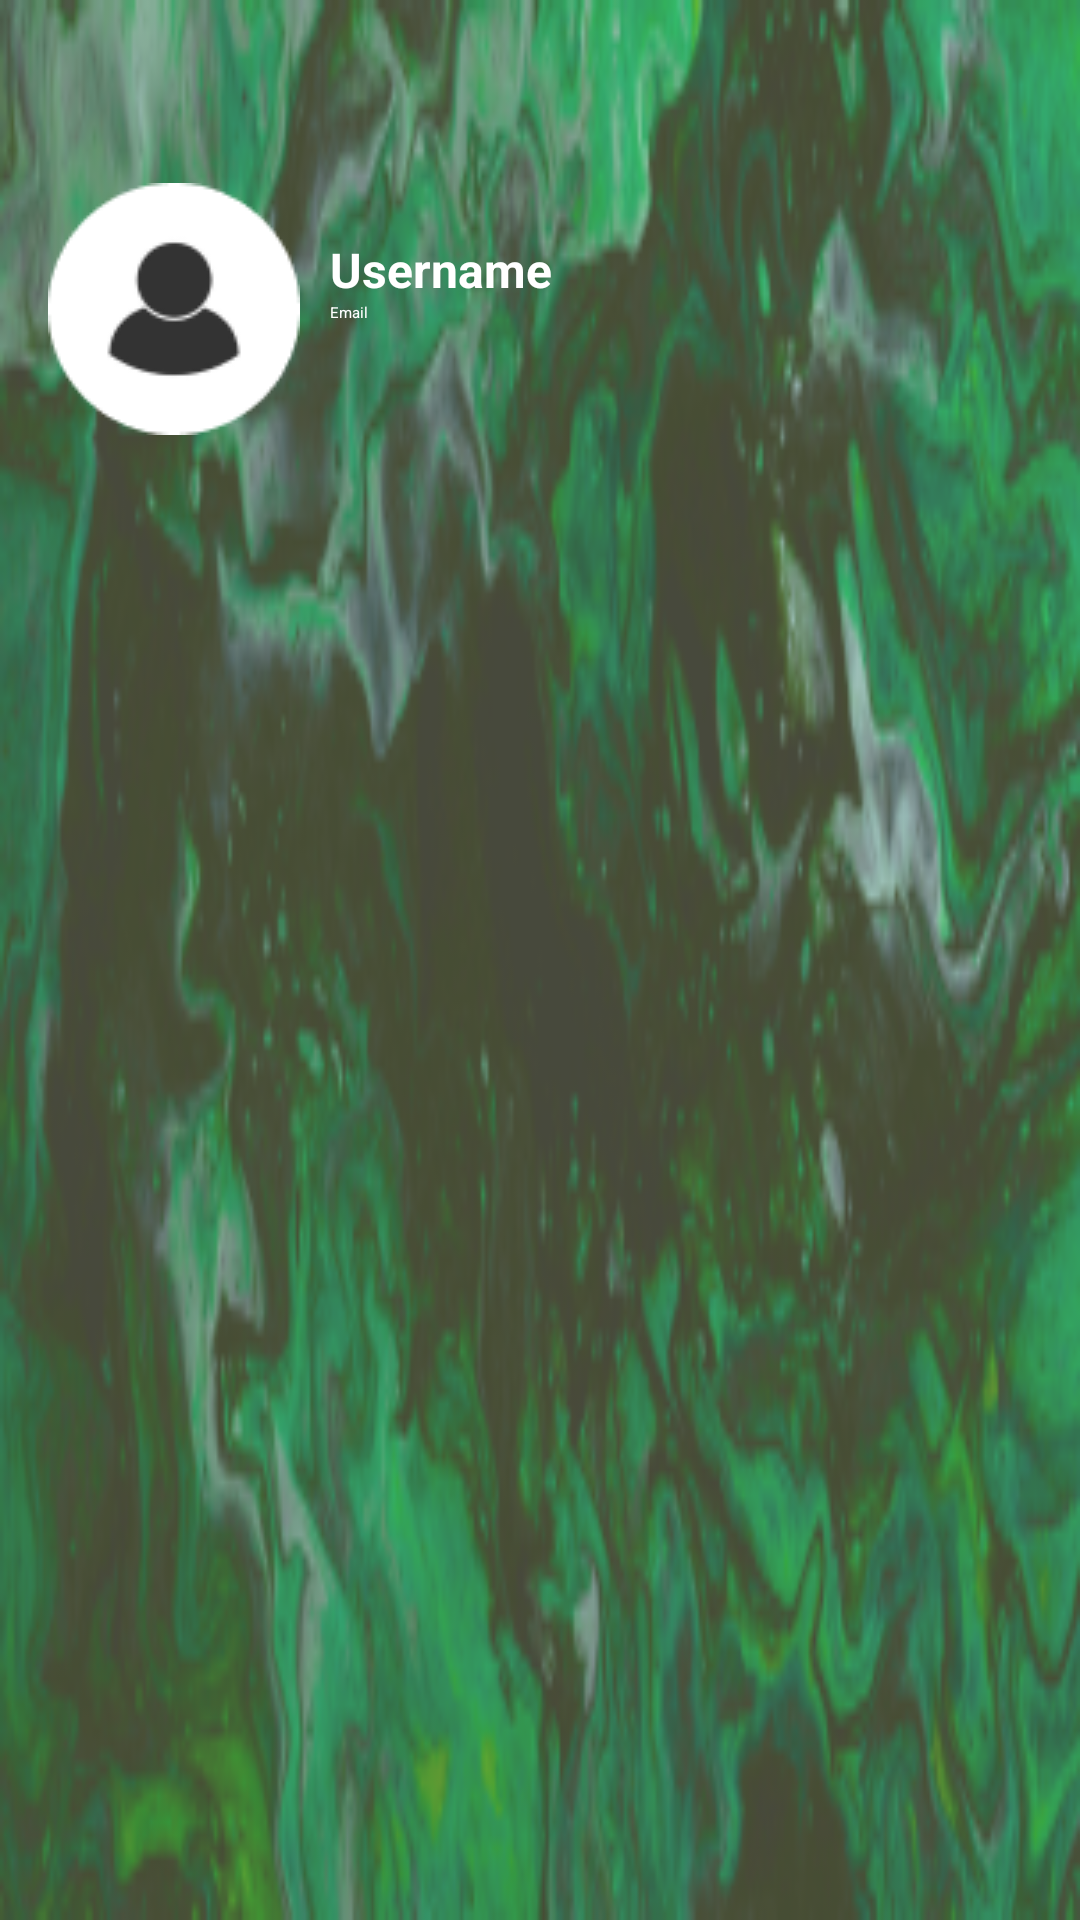

Point at icon controls on the screen. Image size 1080×1920, points as point (x, y).
usericon: point (174, 309)
